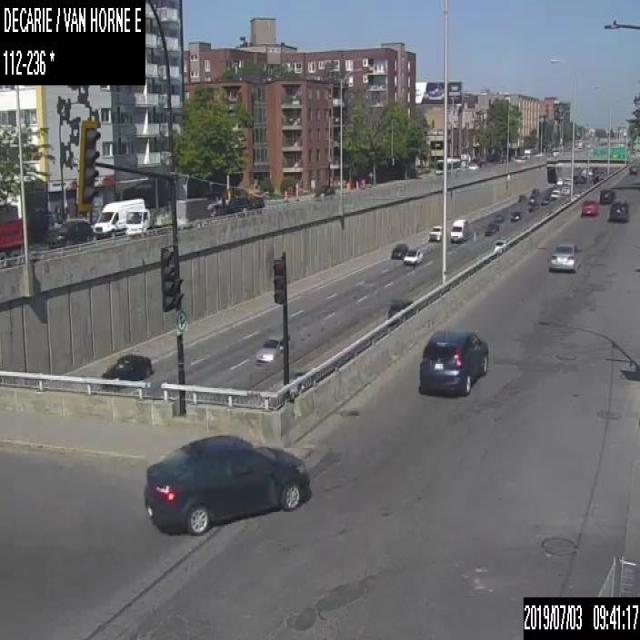bus: (435, 154, 461, 174)
construction: (295, 184, 298, 199), (355, 178, 358, 190), (345, 178, 348, 190), (283, 189, 286, 199)
vehicle: (142, 432, 312, 536), (417, 325, 488, 395), (94, 197, 144, 237), (100, 353, 151, 380), (0, 201, 23, 256), (48, 218, 92, 245), (254, 333, 284, 364), (550, 242, 580, 272), (175, 197, 207, 224), (125, 208, 149, 237), (386, 296, 413, 317), (450, 218, 472, 241), (609, 198, 630, 222), (403, 247, 422, 264), (580, 197, 597, 215), (390, 242, 408, 258), (427, 224, 441, 241), (493, 237, 508, 251), (599, 188, 614, 202), (484, 221, 497, 235), (510, 211, 523, 221), (550, 188, 561, 199), (522, 148, 534, 158), (540, 195, 550, 205), (560, 184, 570, 194), (467, 161, 478, 170), (527, 203, 538, 212), (628, 163, 637, 174), (493, 212, 502, 221), (518, 192, 526, 202), (529, 193, 536, 203), (564, 176, 570, 185), (532, 186, 538, 194), (556, 177, 562, 185)
